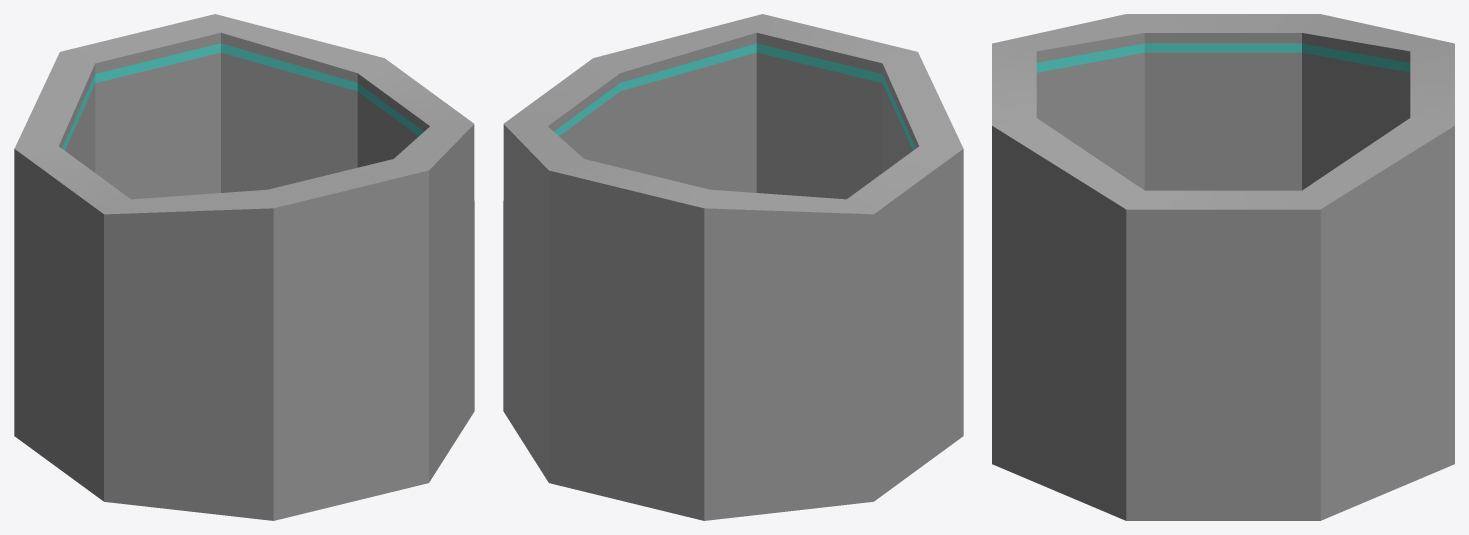
Rendered from Room_3_3_Walkway.fbx.
3 renders of one model, left to right at view 1: azimuth 30°, elevation 25°; view 2: azimuth 150°, elevation 25°; view 3: azimuth 270°, elevation 25°, orthographic. The views are drawn at different scales.
Visible parts, largest first — view 1: pCylinder1; view 2: pCylinder1; view 3: pCylinder1.
Part boxes in pixels (left/top/right/bottom): pCylinder1: left=14, top=14, right=474, bottom=520; pCylinder1: left=503, top=14, right=963, bottom=520; pCylinder1: left=992, top=14, right=1454, bottom=520.
Bounding box in the file's own units: 6200 × 5000 × 6197.
